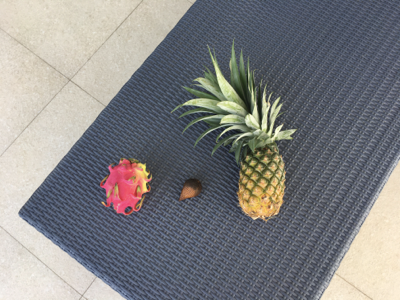dragon fruit: (101, 158, 153, 216)
pineapple: (177, 41, 295, 220)
snake fruit: (179, 176, 202, 203)
